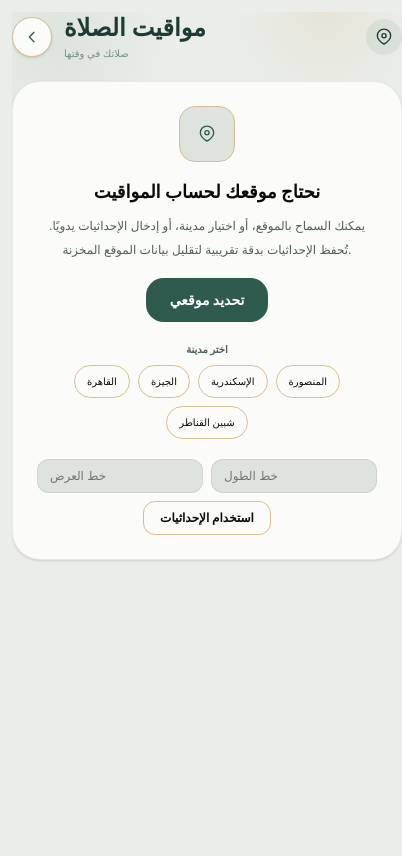
Scenario: PrayerTimesView › shows a permission-specific location error and offers retry
Click the button "تحديد موقعي" at (207, 300), box [146,278,268,322]
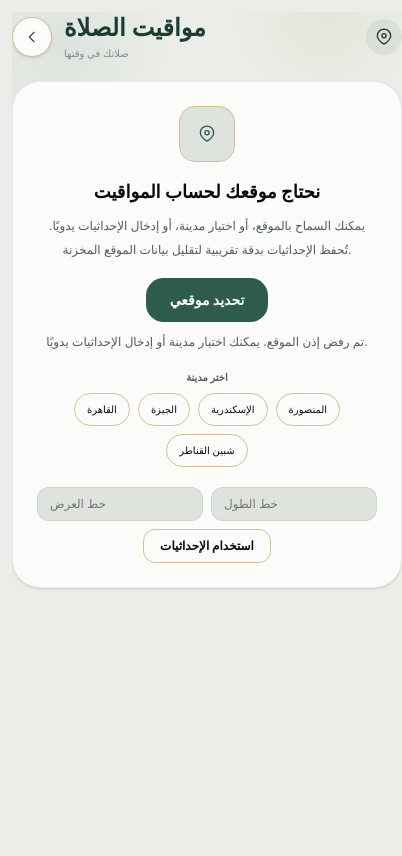
Expected: the text "اختر مدينة" is shown, [186,371,228,383]
Now the text "تم رفض إذن الموقع" is shown, box [46,334,368,349]
